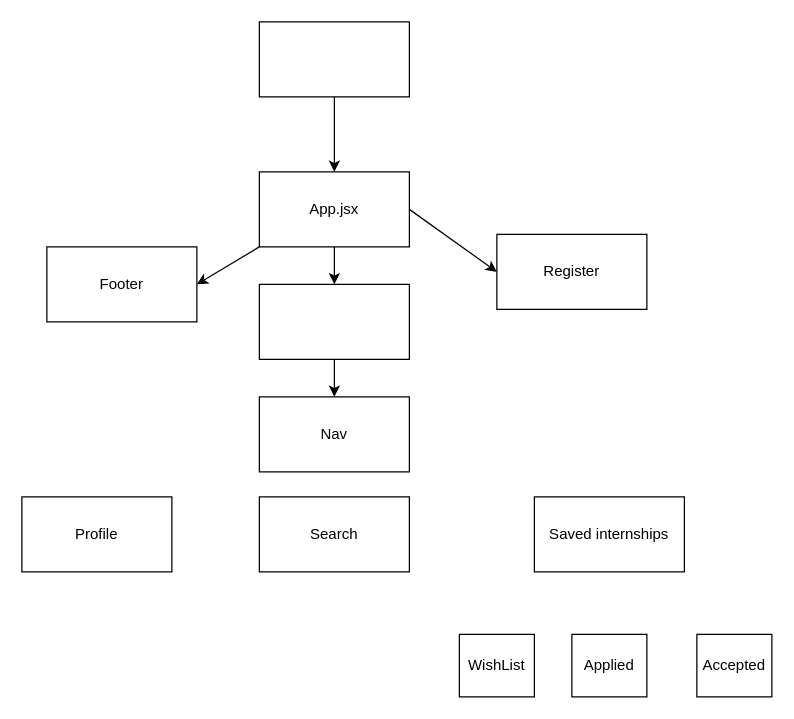
Some shapes in this 794 by 719 pixel diagram are drawn without their labels. The shapes that lost their labels are listed below. From the top down, each one's centre as x and y in pixels, then its label:
At (x=333, y=59): "database".
At (x=333, y=321): "Login".
